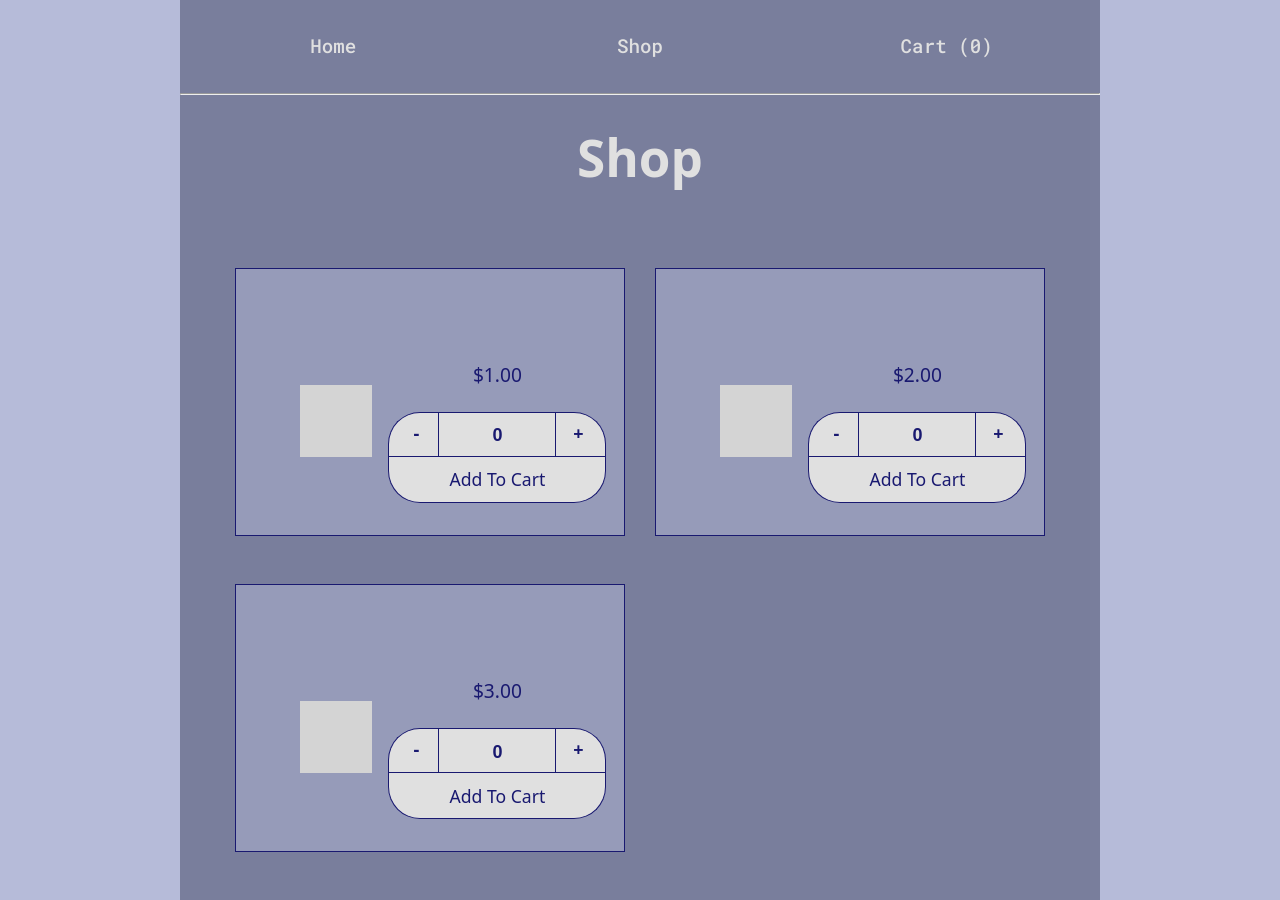
App component › removes cart items in cart page
This screenshot has width=1280, height=900.
Click the button "+" below "$1.00": (581, 434) x1=556 y1=412 x2=606 y2=457
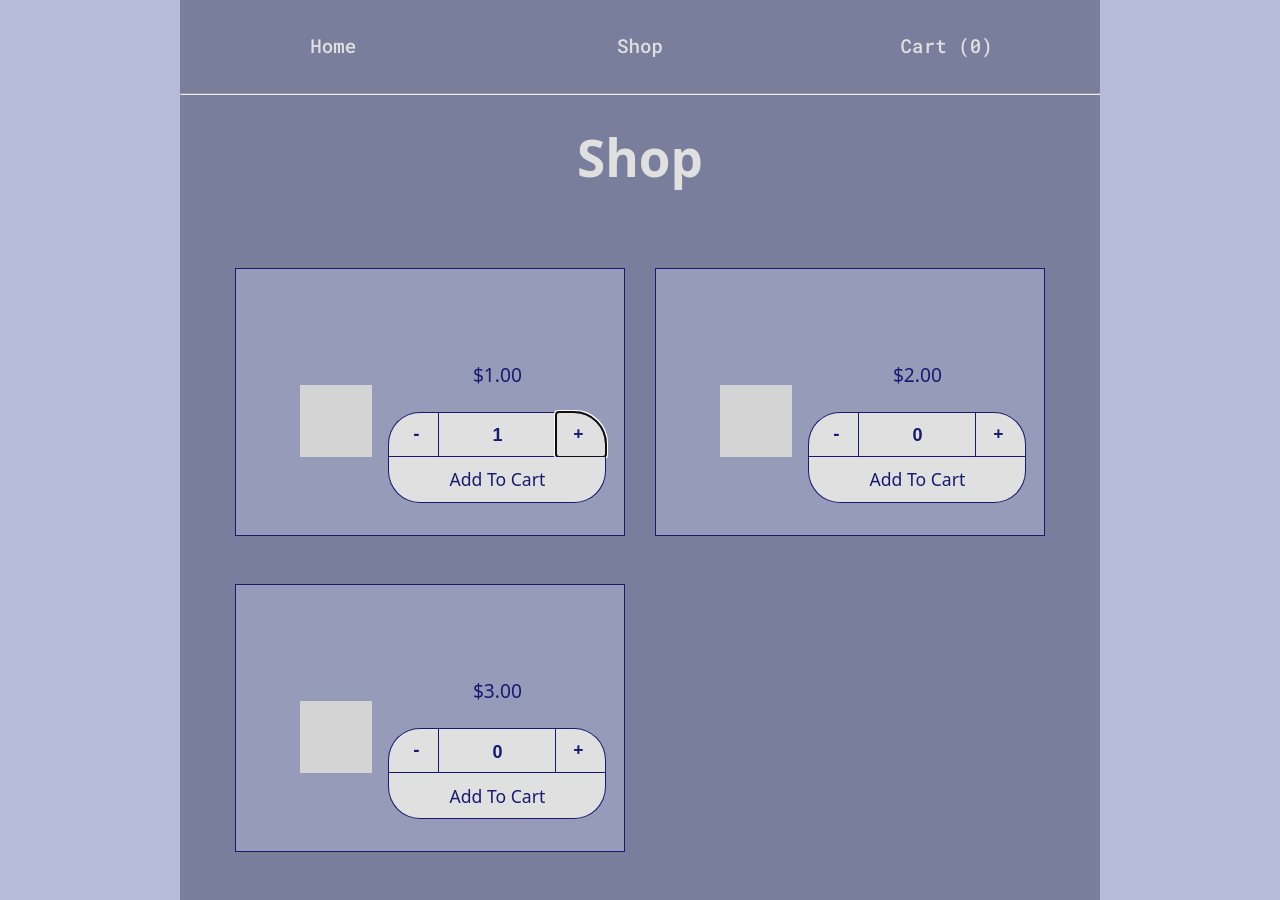
Click the button "Add To Cart" below "$1.00": (497, 480) x1=388 y1=457 x2=606 y2=503
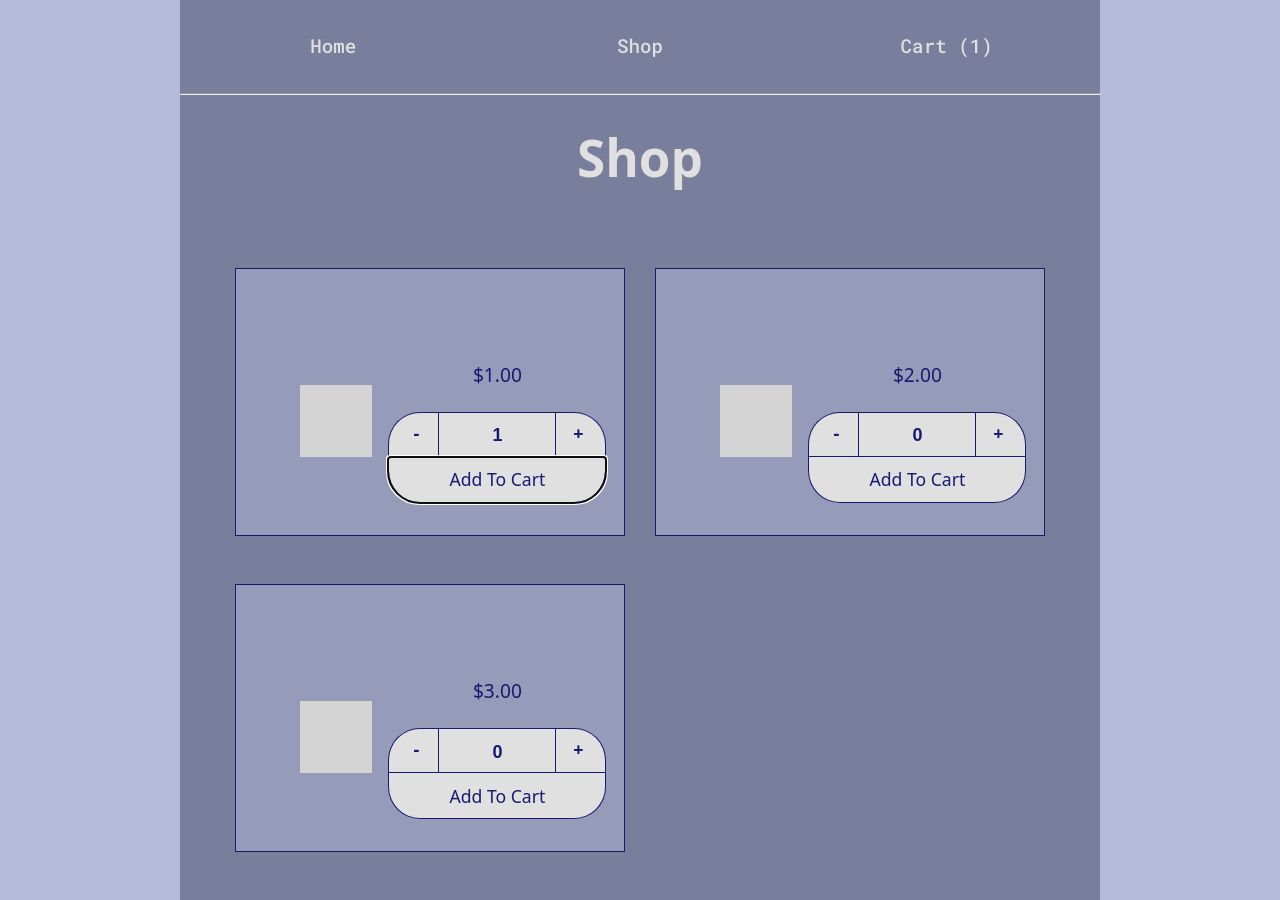
Click the link "Cart (1)": (947, 46) x1=901 y1=33 x2=993 y2=58
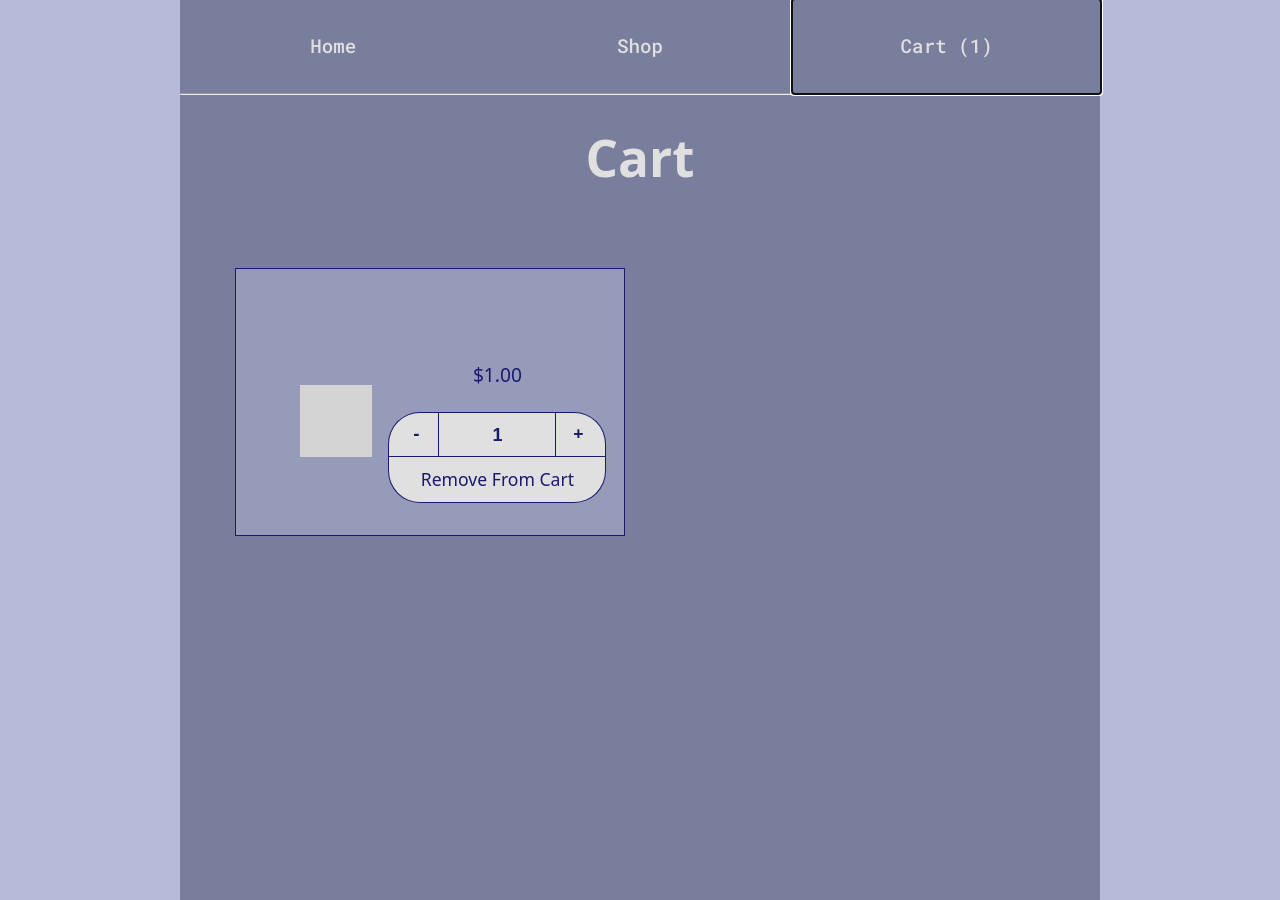
Click the button "Remove From Cart": (497, 480) x1=388 y1=457 x2=606 y2=503
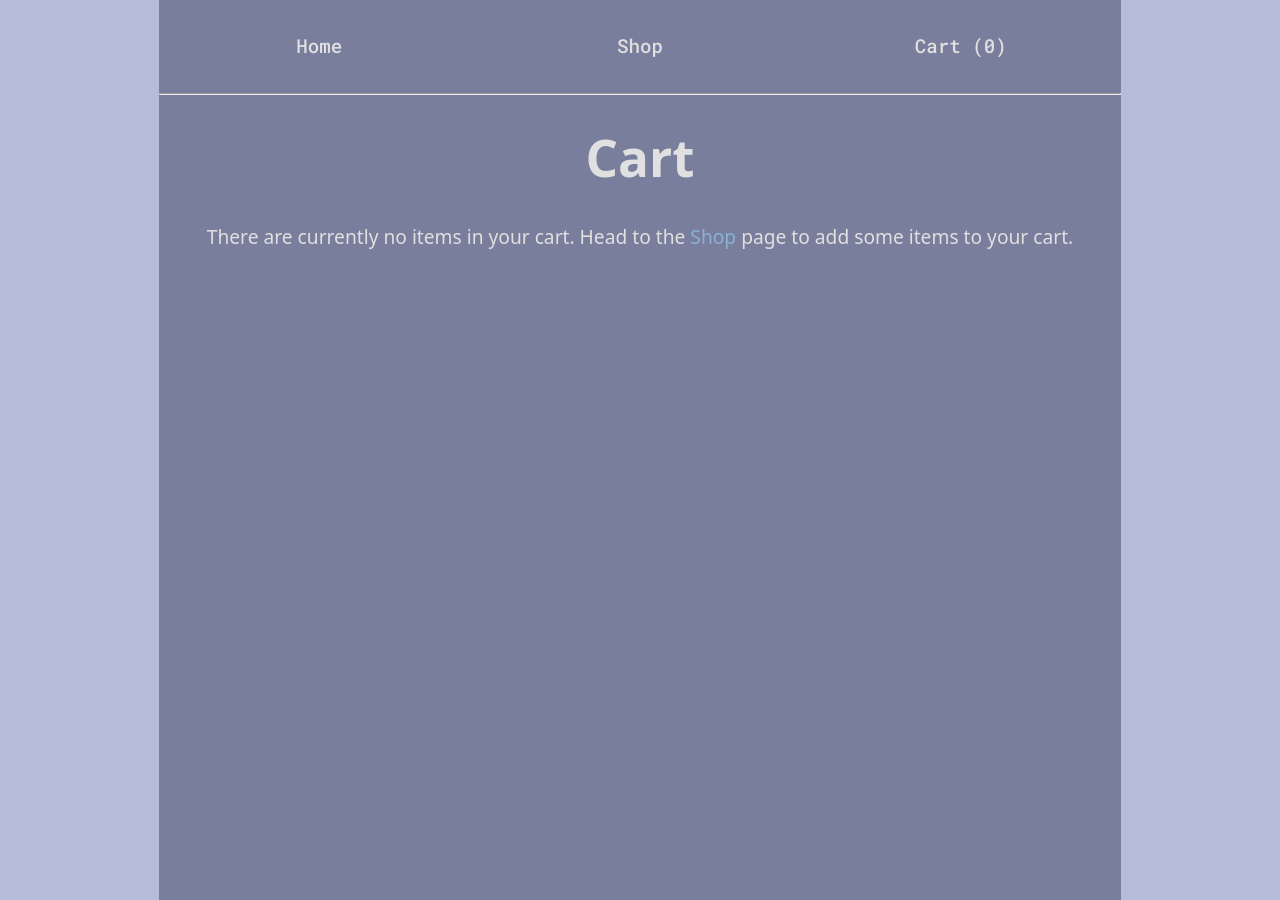
Expected: the button "Remove From Cart" is gone
